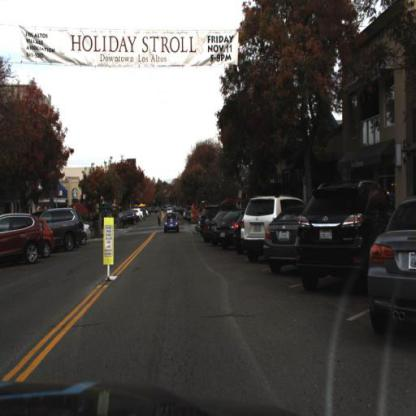car: (295, 176, 379, 296), (368, 189, 416, 348), (240, 195, 282, 259), (263, 203, 298, 274), (1, 211, 44, 263), (50, 206, 85, 254), (216, 206, 239, 258), (37, 217, 55, 260), (162, 211, 184, 235)
